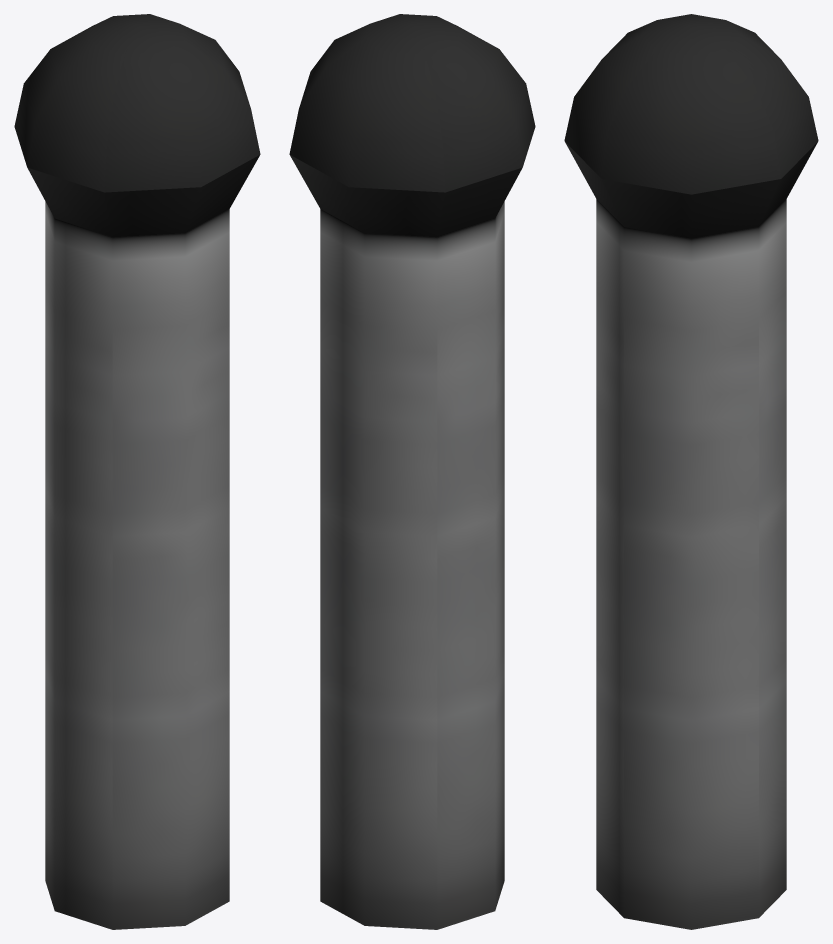
The model's file is octans_docking_port_s0p5_1_probe.obj.
3 views of the same model, side by side, from view 1: azimuth 30°, elevation 25°; view 2: azimuth 150°, elevation 25°; view 3: azimuth 270°, elevation 25° (orthographic).
Visible parts, largest first — view 1: probe; view 2: probe; view 3: probe.
Boxes of the visible parts, x1,y1,x2,y2 form: probe: [14, 14, 260, 929]; probe: [289, 14, 535, 929]; probe: [564, 14, 818, 929].
Size of the model in its own units: 0.05 by 0.1875 by 0.05.
